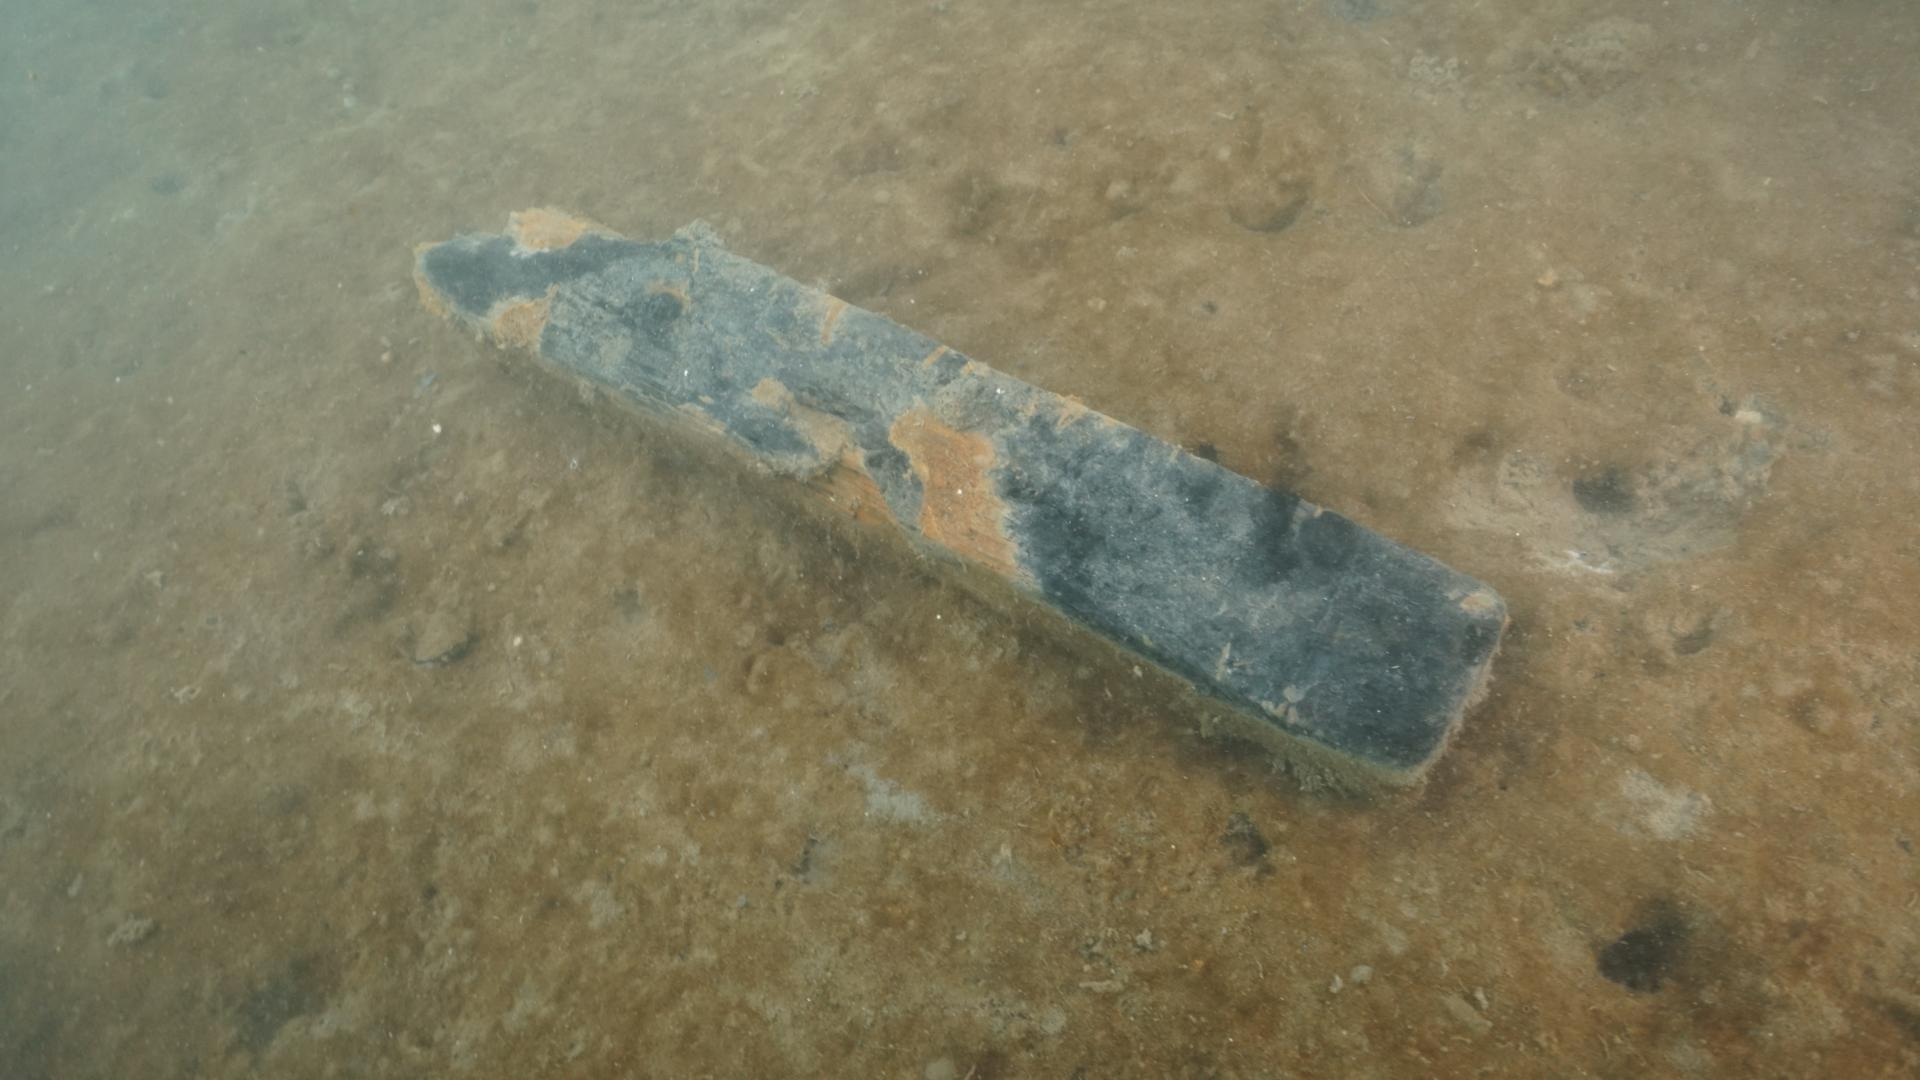wood: (402, 199, 1516, 819)
